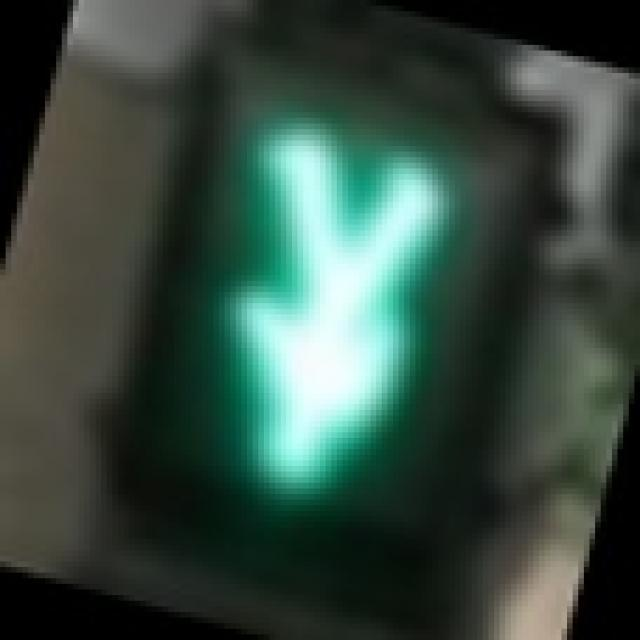geen-crossing: (106, 62, 522, 556)
